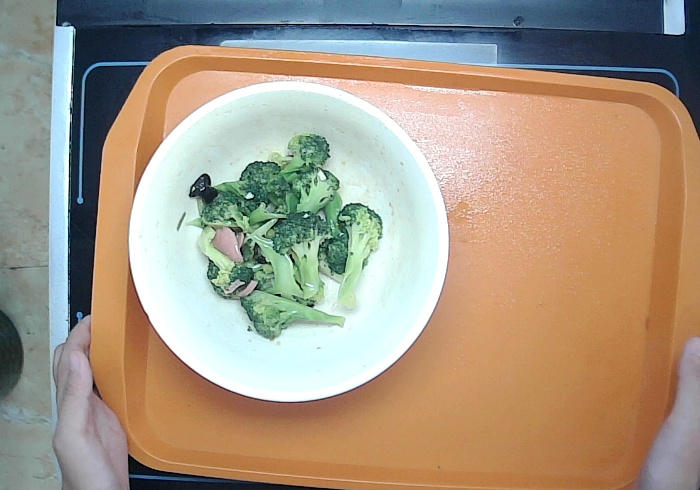ZNLD-Da_Tang_Wan: (126, 78, 450, 403)
